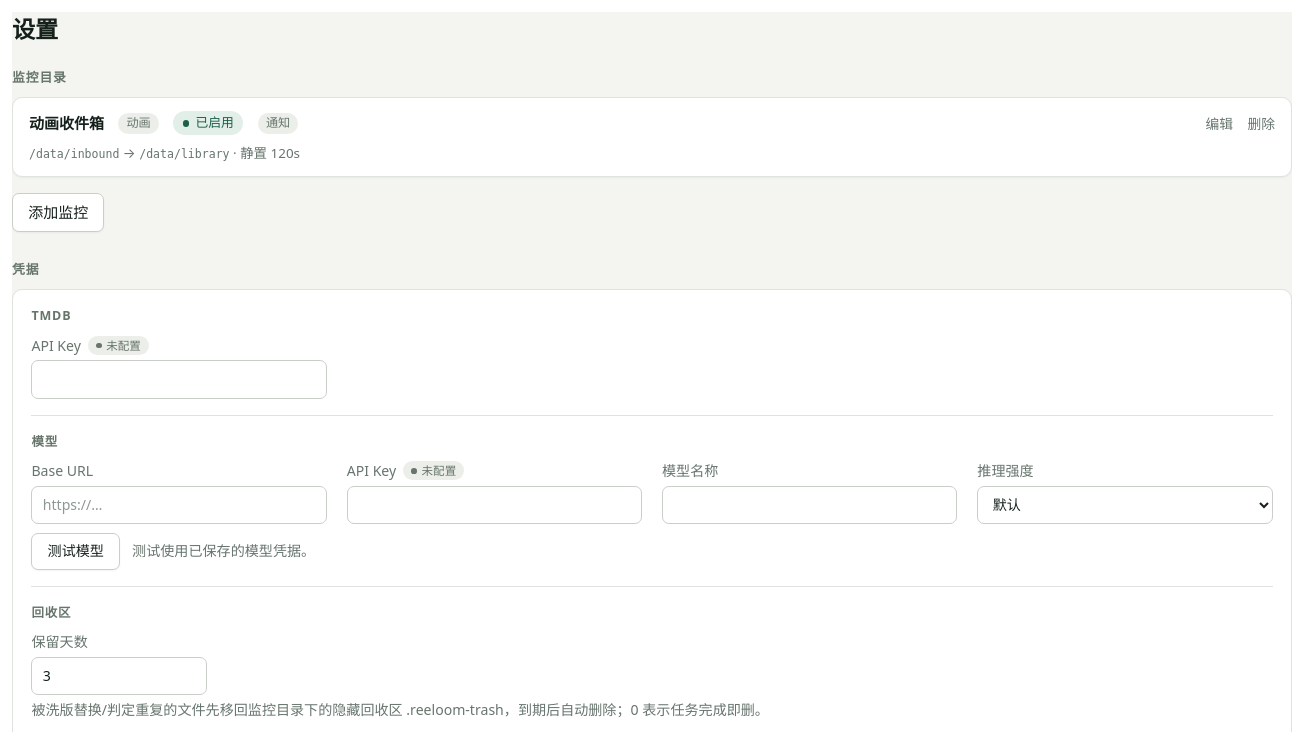
Test: settings page › shows the error when the model test fails
Click the button "测试模型".
click(76, 551)  # box [31,533,120,570]
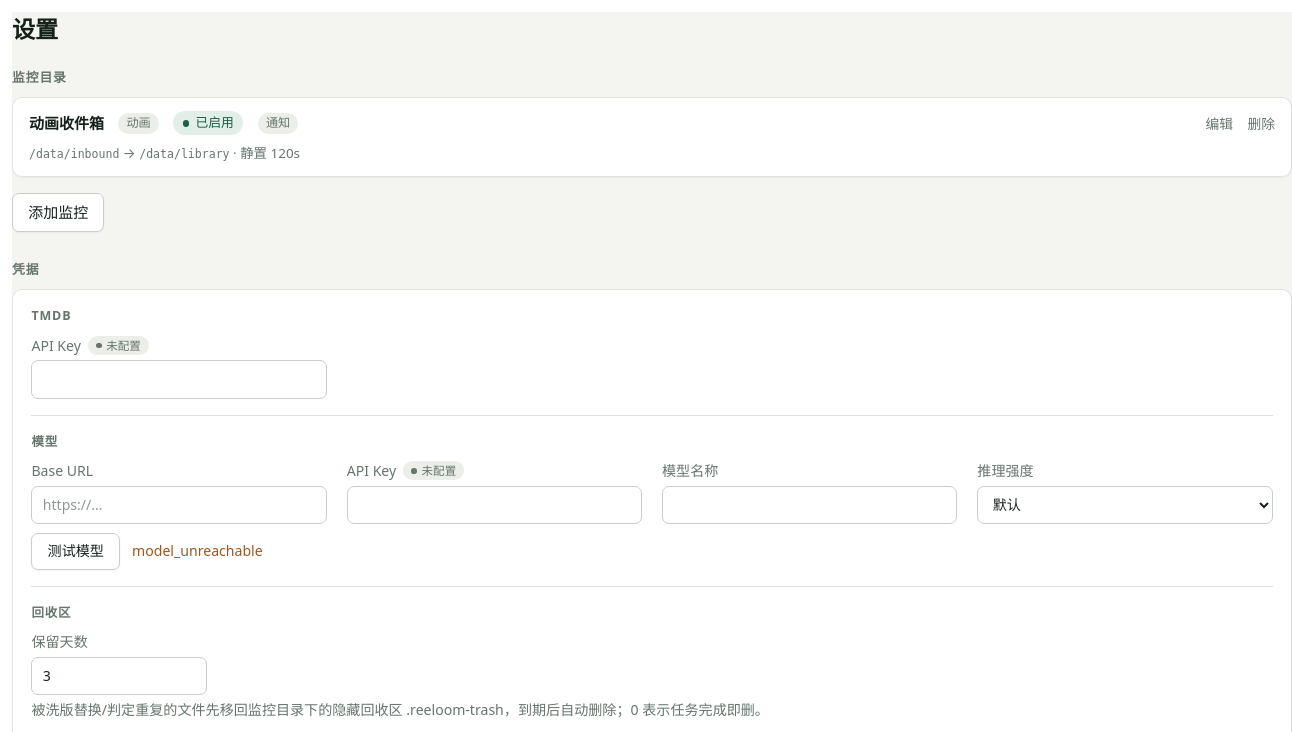
Expected: the text "model_unreachable" is shown, [132,540,263,562]
